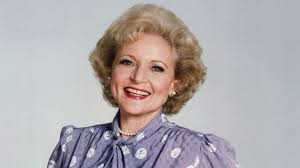white_female: (112, 23, 171, 113)
